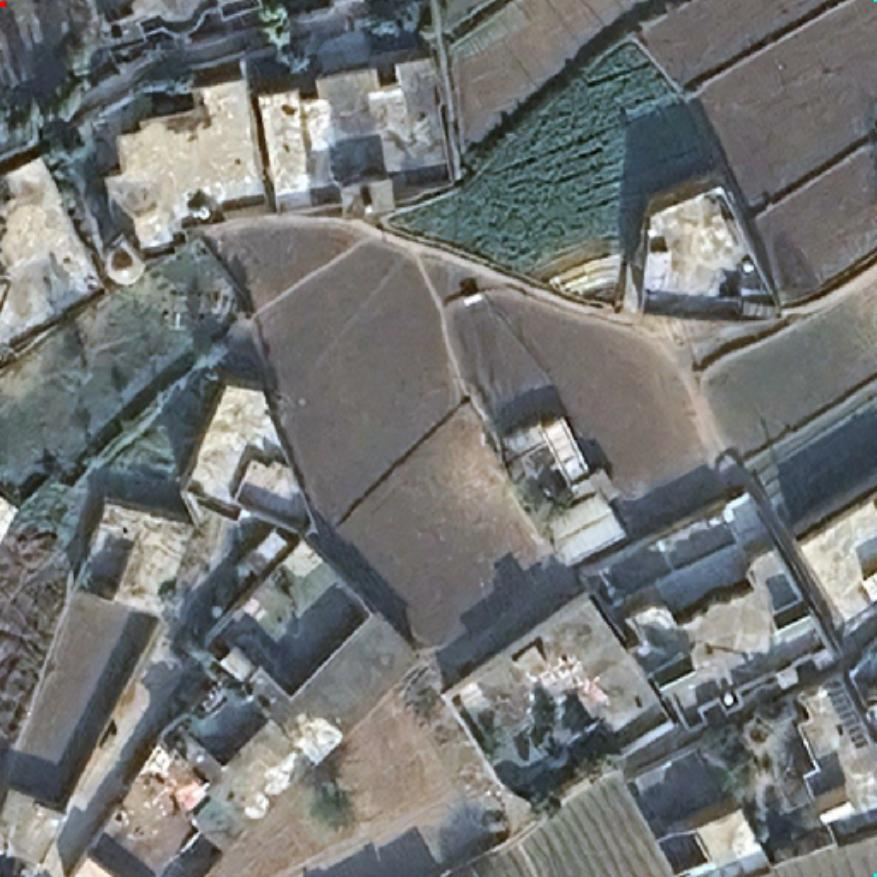Solarpanel: (823, 682, 873, 753)
